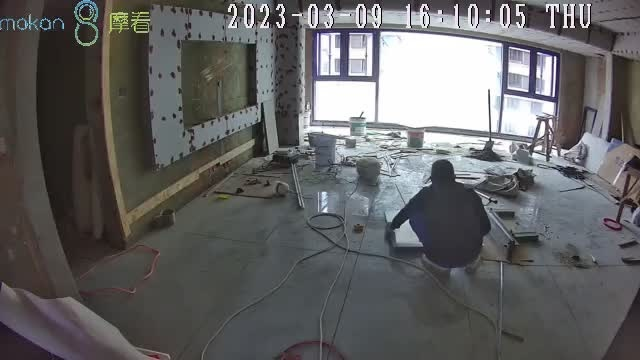people: (389, 159, 491, 273)
window: (313, 29, 556, 140)
